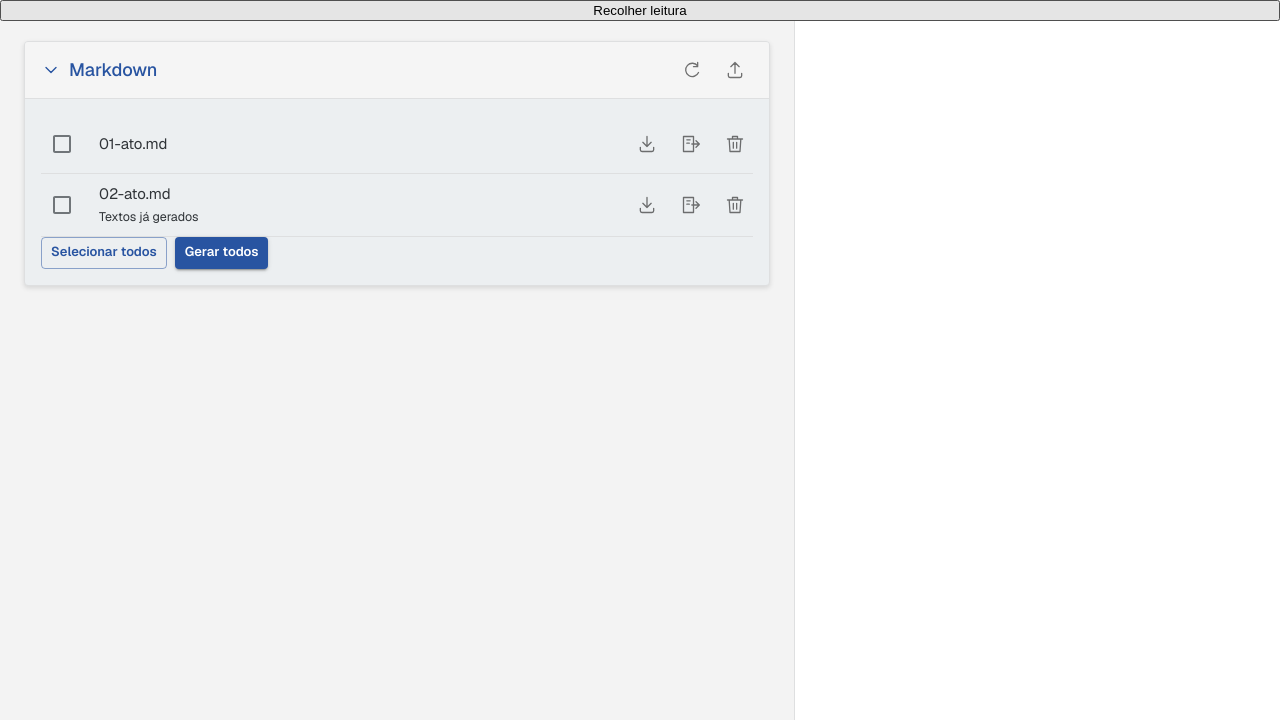
Test: blocks stale generation and reloads the same individual source
Expected: the button "01-ato.md" is shown, [99,133,167,156]
Click the button named "Gerar texto de 01-ato.md" at (691, 144), box [673,126,709,162]
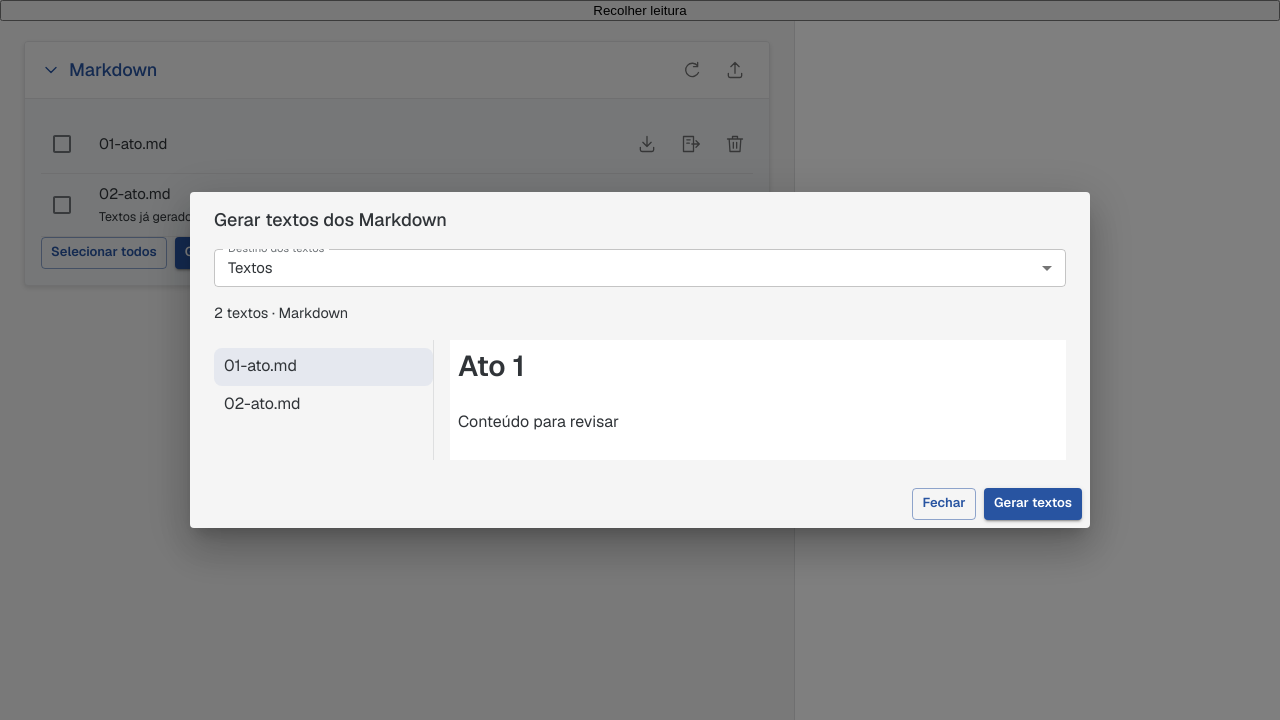
Click the button "Gerar textos" at (1033, 504), box [984,488,1082,520]
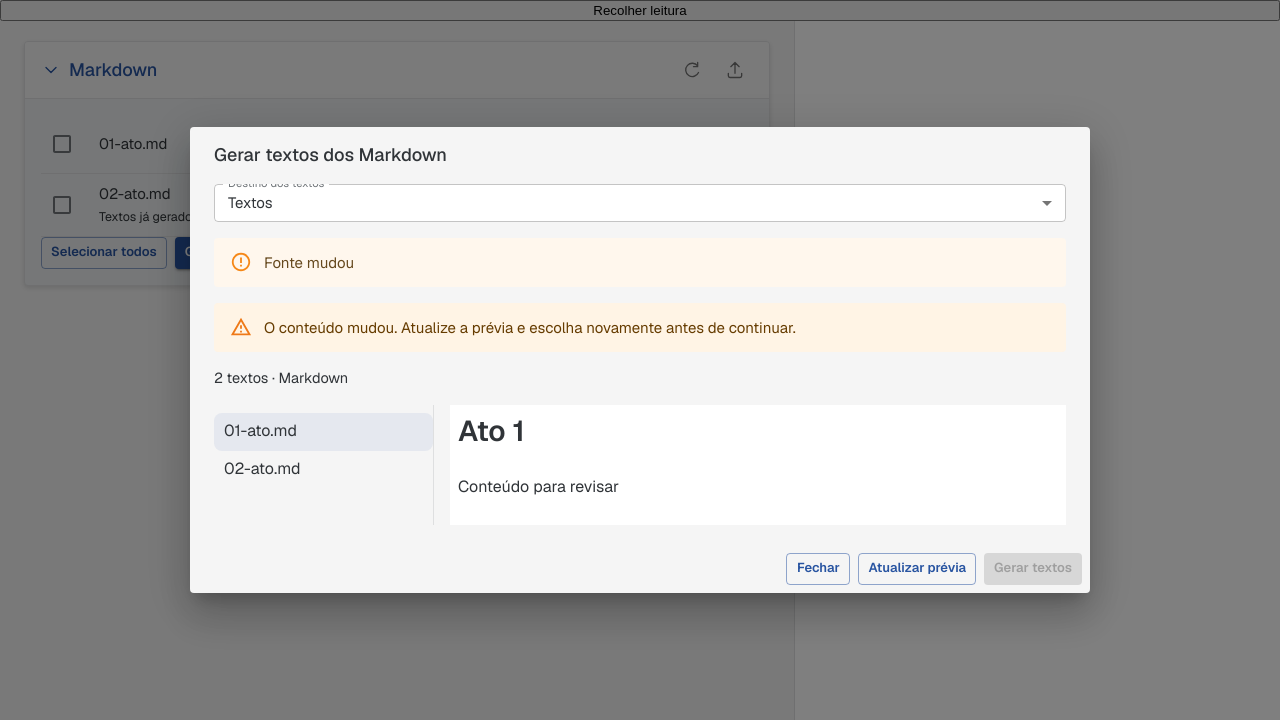
Expected: the text "Fonte mudou" is shown, [264,253,354,272]
Expected: the button "Gerar textos" is disabled, [984,552,1082,584]
Click the button "Atualizar prévia" at (917, 568), box [858,552,976,584]
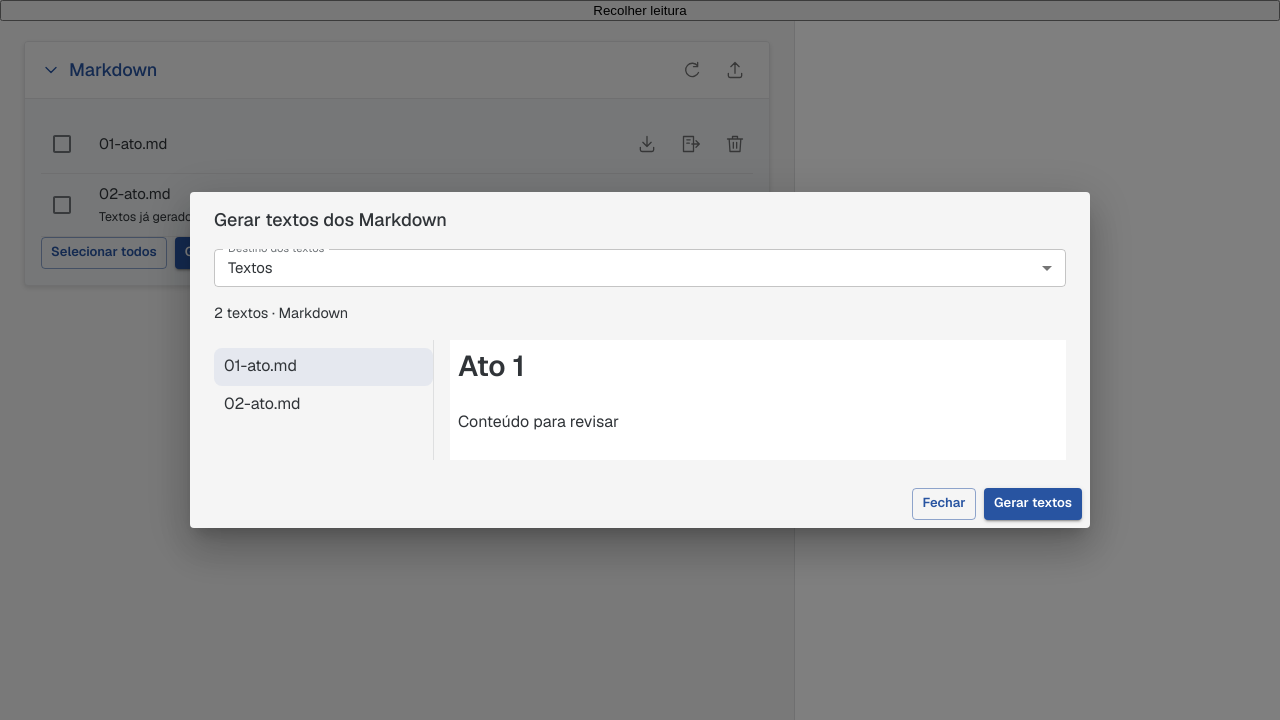
Expected: the button "Gerar textos" is enabled, [984,488,1082,520]
